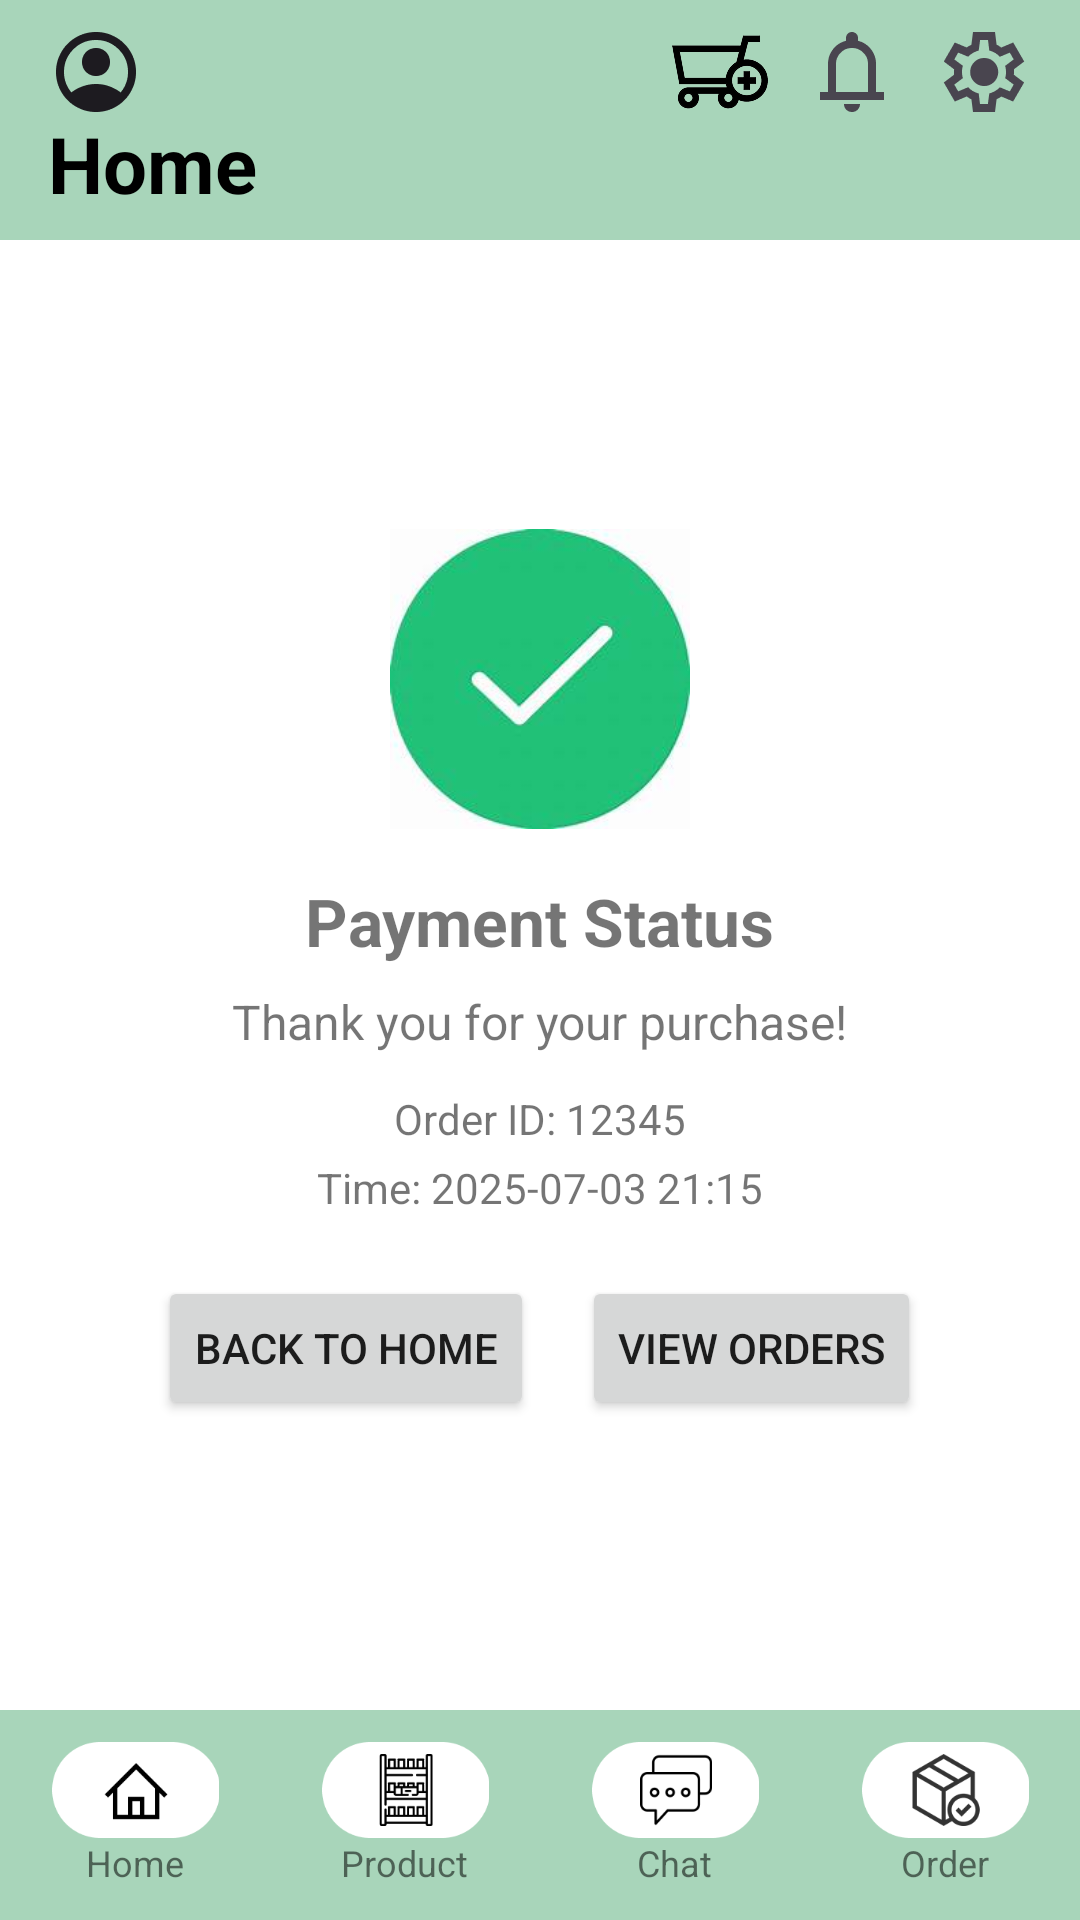

Icons on this 1080×1920 Android screen, each with the point to tap as point (x, y):
cart: point (720, 72)
notification: point (852, 72)
setting: point (984, 72)
success: point (540, 679)
user: point (96, 72)
